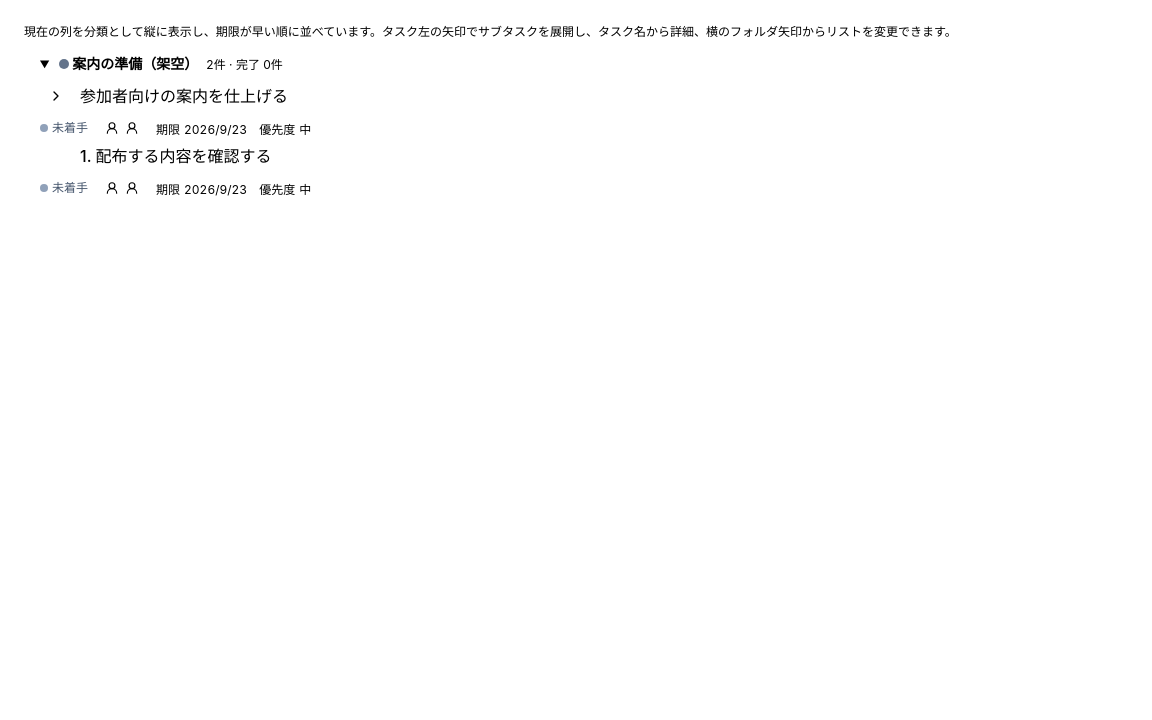
UI guide isolated interactions › can reopen the same fake task after closing its detail
Click the button "参加者向けの案内を仕上げる". click: (184, 96)
box: left=80, top=84, right=1112, bottom=108
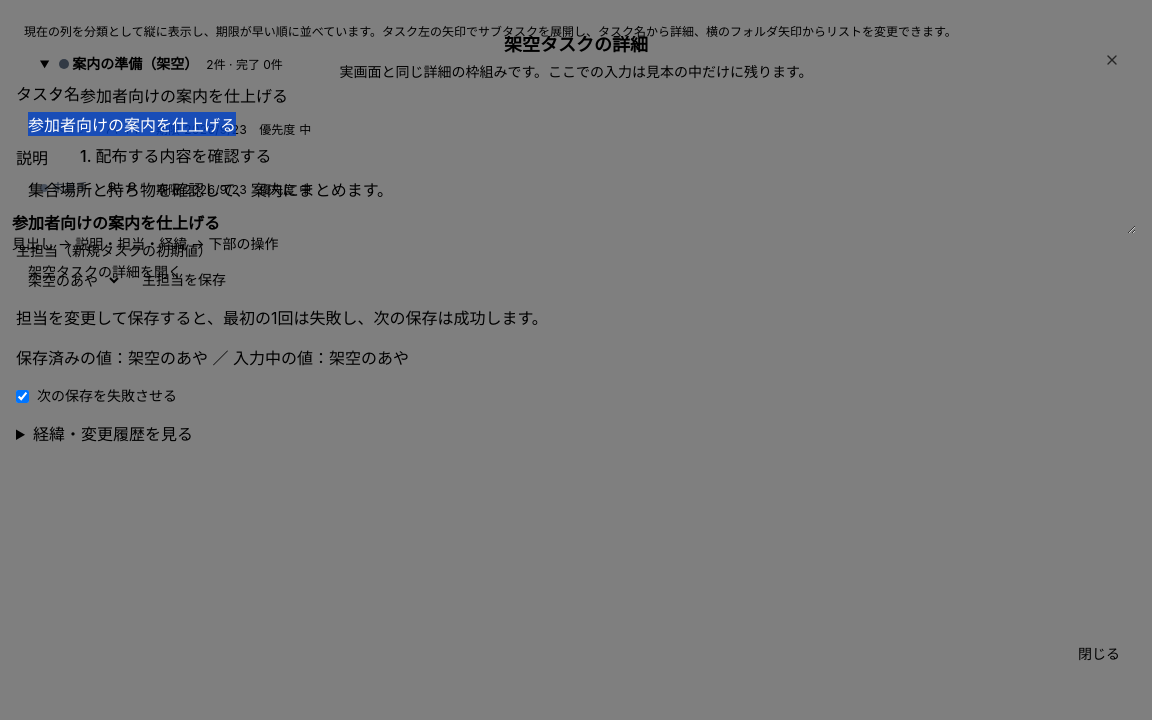
Expected: the dialog is shown
Click the button "閉じる". click: (1099, 654)
box: left=1062, top=636, right=1136, bottom=672
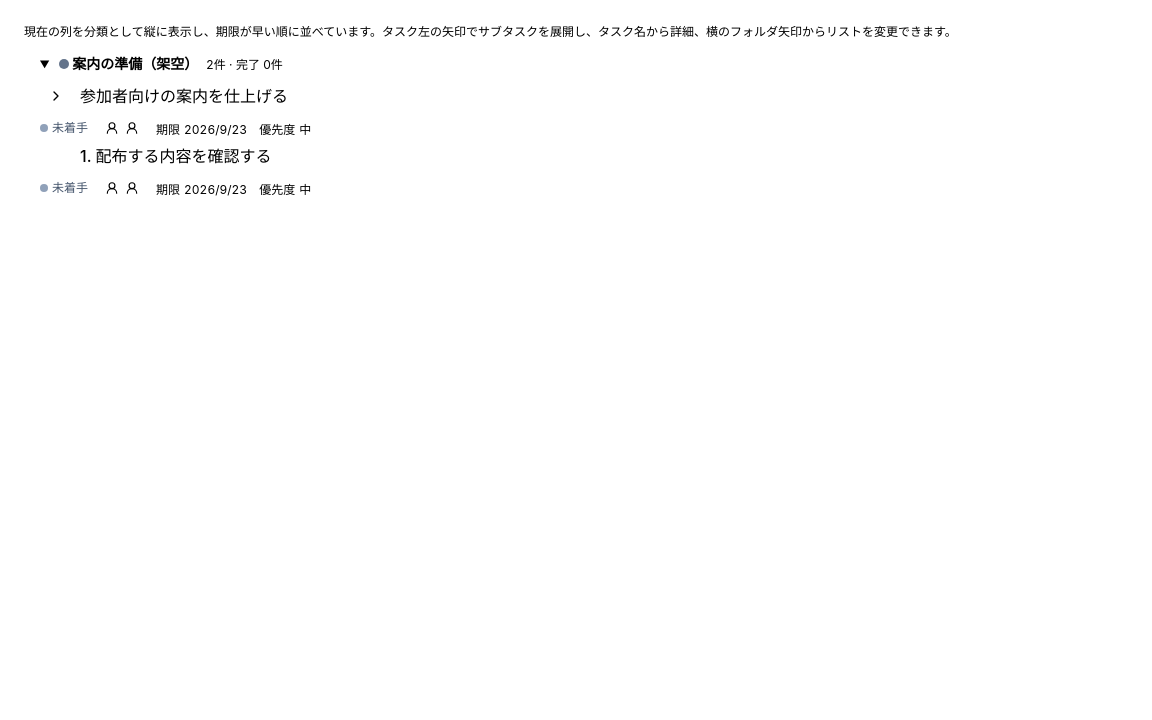
Expected: the dialog is gone
Click the button "参加者向けの案内を仕上げる". click: (184, 96)
box: left=80, top=84, right=1112, bottom=108
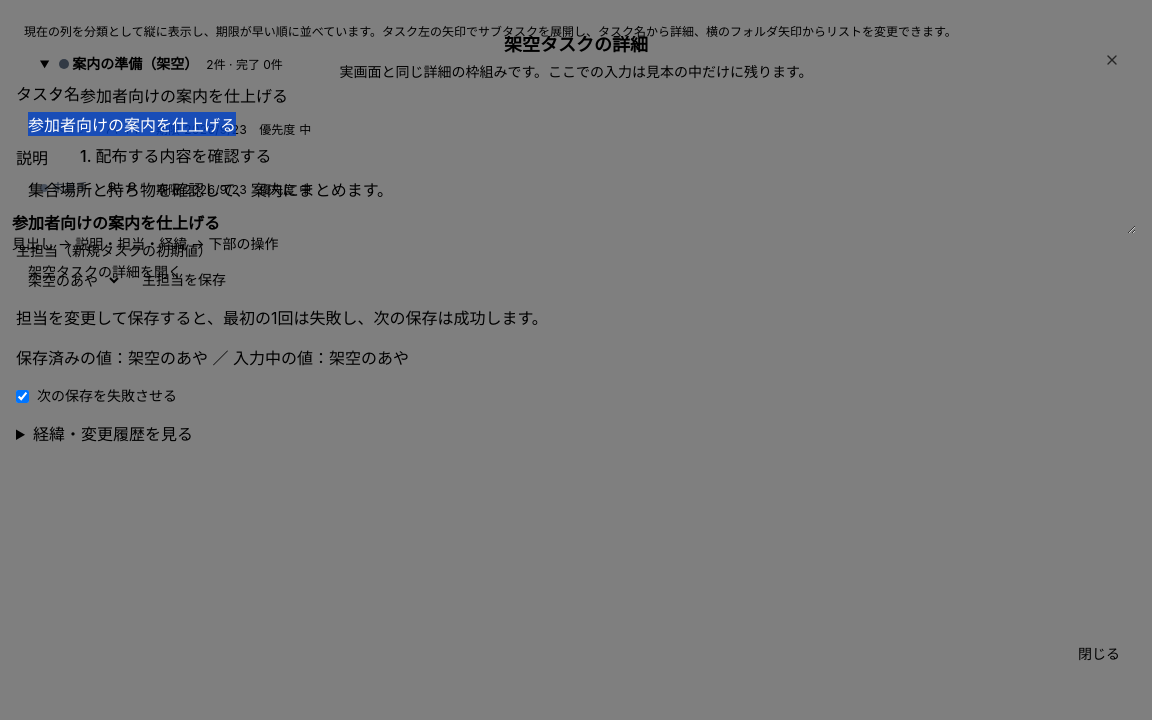
Expected: the dialog is shown
